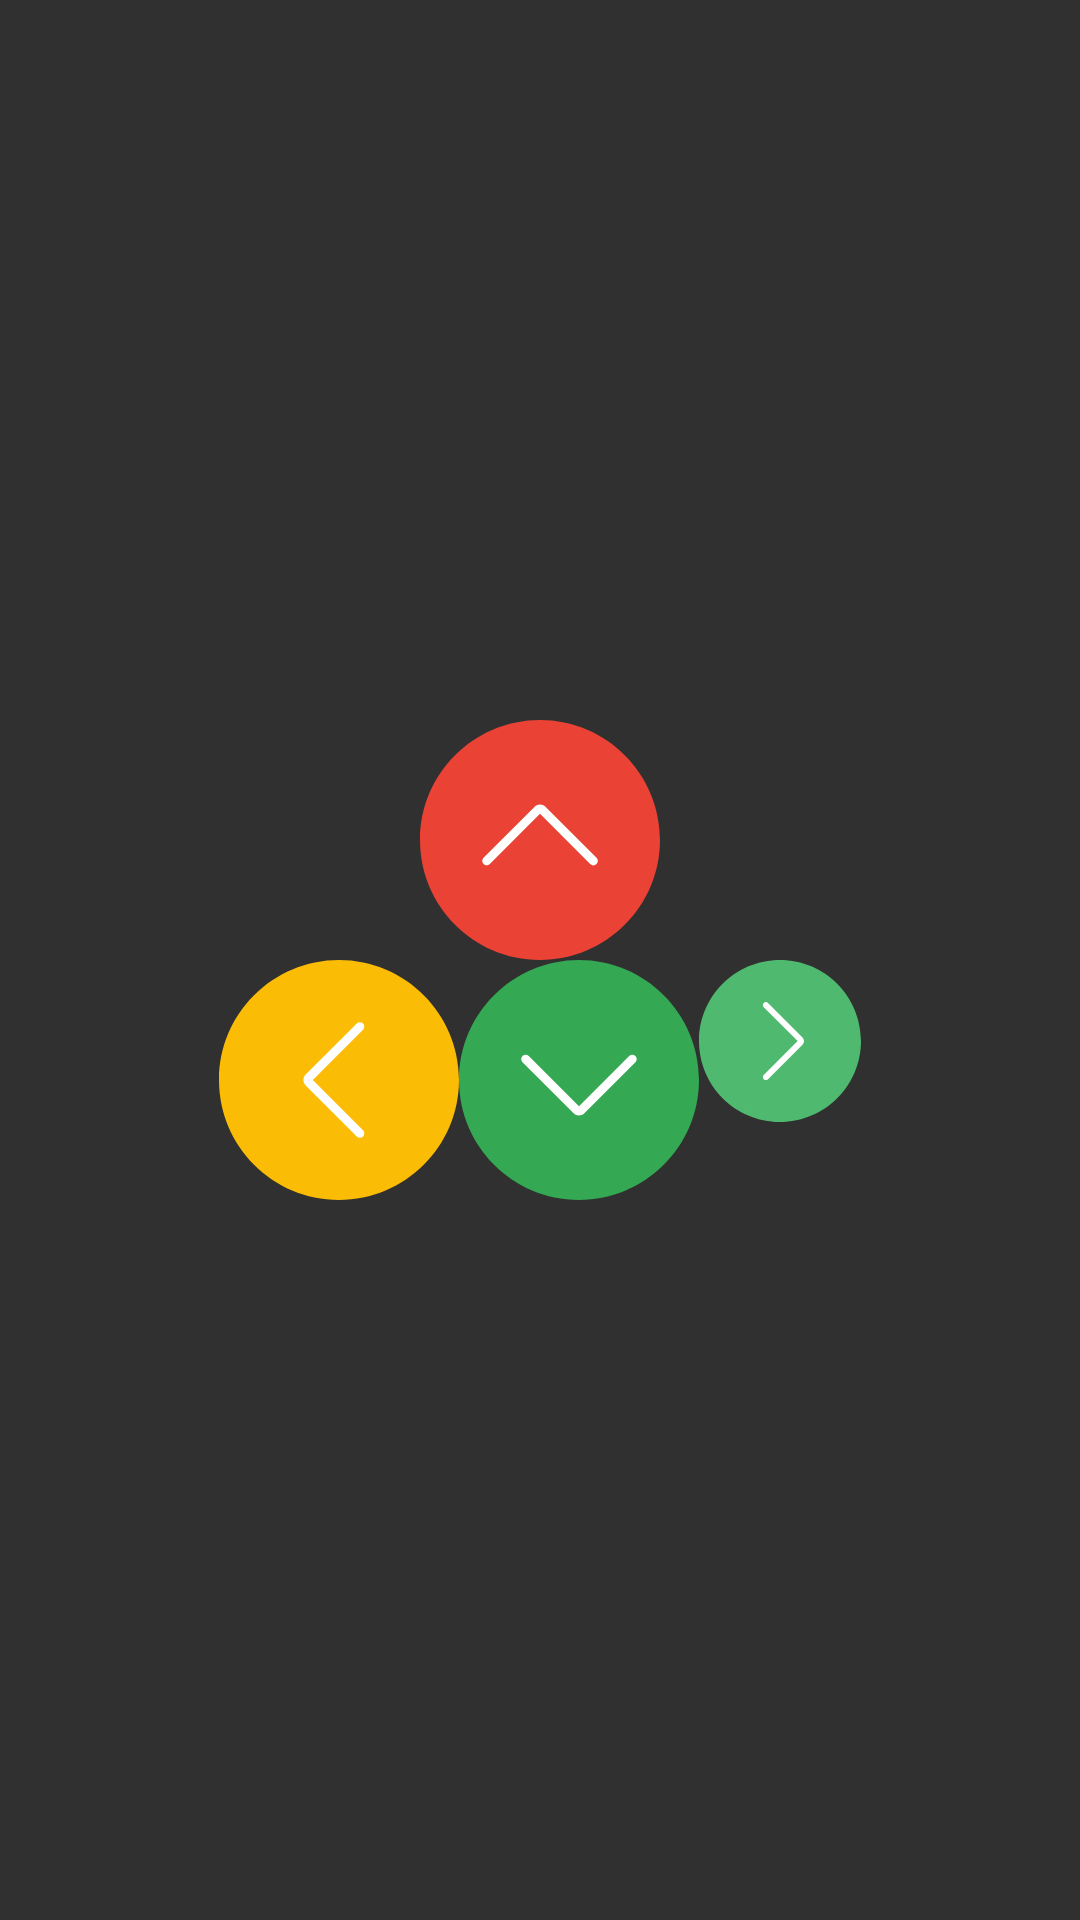

Locate icon controls on the screen. Image size 1080px x 1920px, boxes as rect(x1, y1, x2, y2).
down arrow: rect(459, 960, 699, 1200)
left arrow: rect(219, 960, 459, 1200)
right arrow: rect(699, 960, 861, 1122)
up arrow: rect(420, 720, 660, 960)
